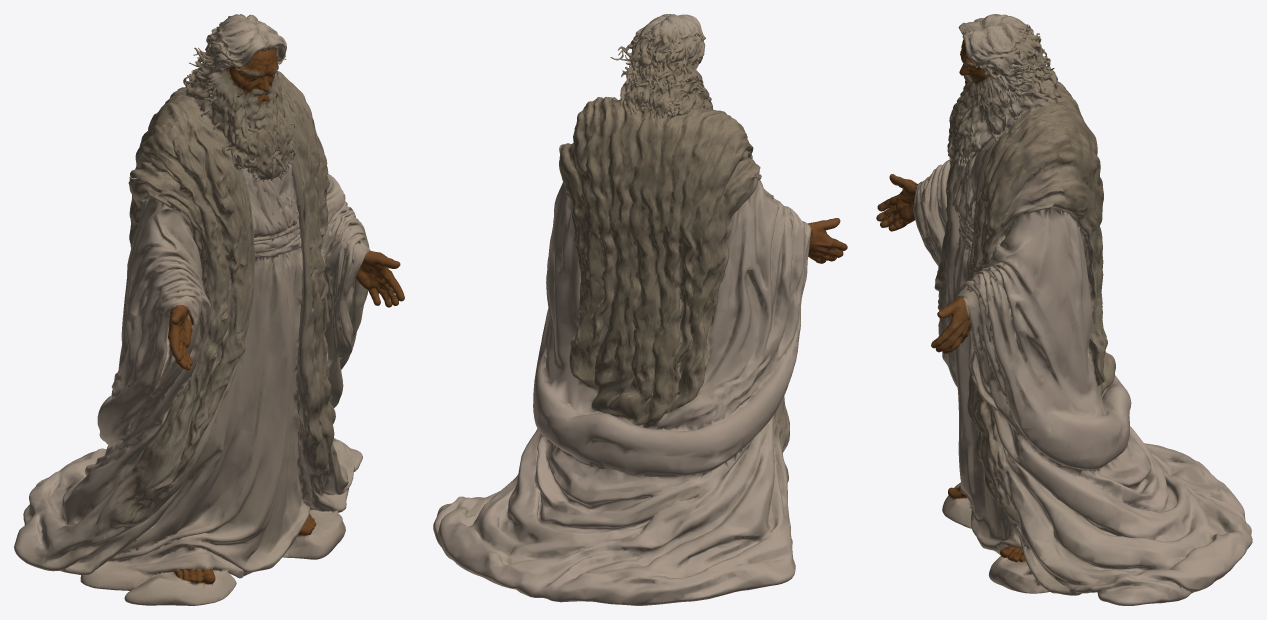
Rendered from ancient.glb.
3 renders of one model, left to right at view 1: azimuth 30°, elevation 25°; view 2: azimuth 150°, elevation 25°; view 3: azimuth 270°, elevation 25°, orthographic. The views are drawn at different scales.
Size of the model in its own units: 1.29 by 1.9 by 1.22.
1 material, 1 textured.
